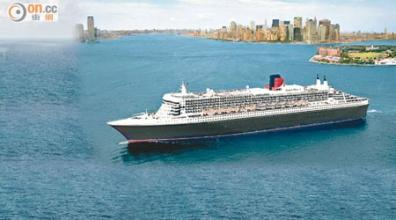youlun: (103, 60, 370, 144)
